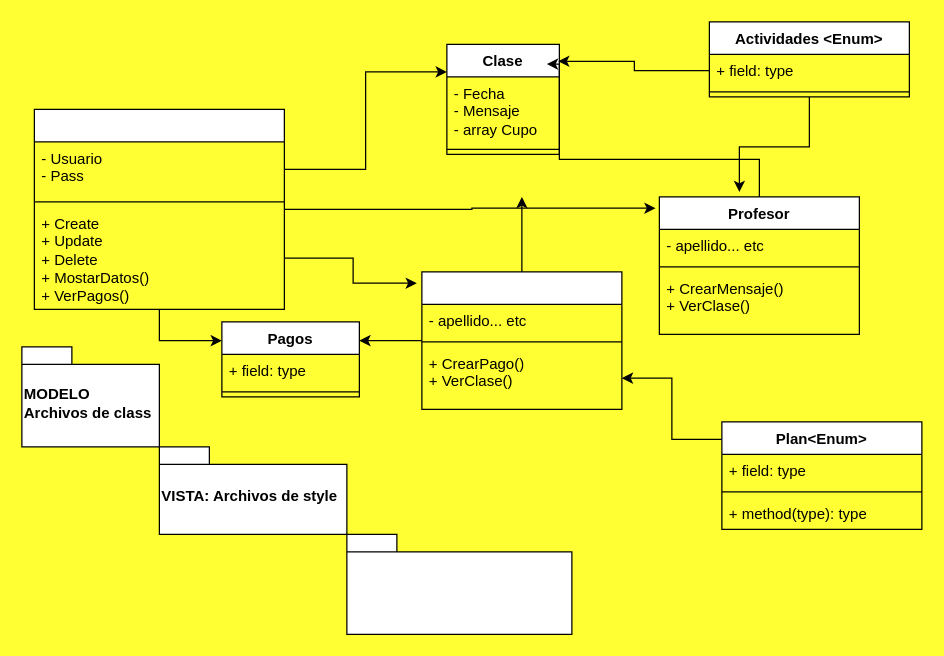
Some shapes in this 944 by 656 pixel diagram are drawn without their labels. The shapes that lost their labels are listed below. From the top down, each one's box as (x1, y1, x2, y2) in pixels, then its label:
(33, 108, 284, 309): Administrador <static>
(421, 271, 622, 409): Cliente
(346, 533, 572, 634): CONTROLADOR: Archivo con la class con function CRUD
